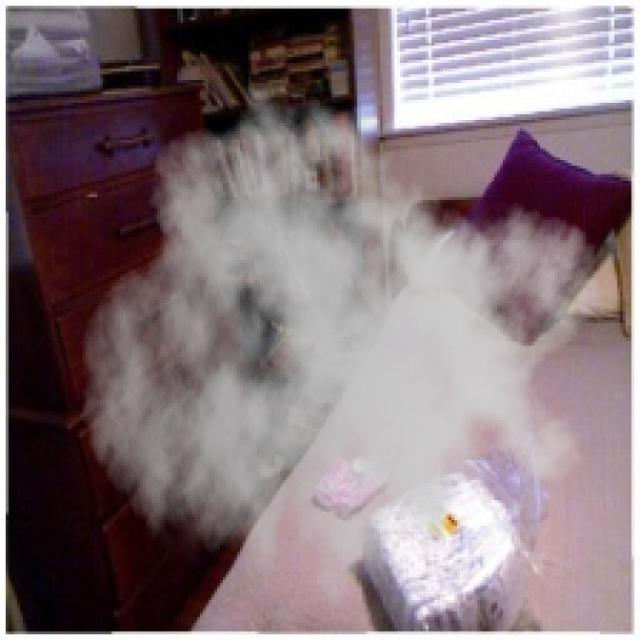smoke: (80, 69, 603, 637)
